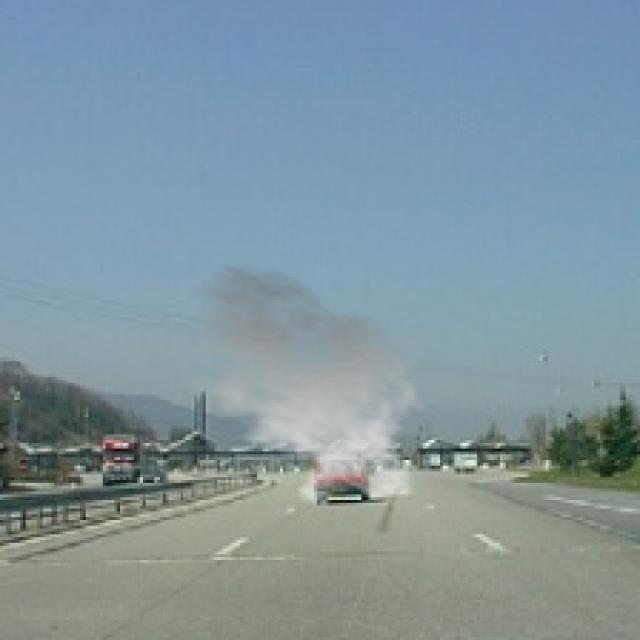smoke: (172, 263, 428, 506)
